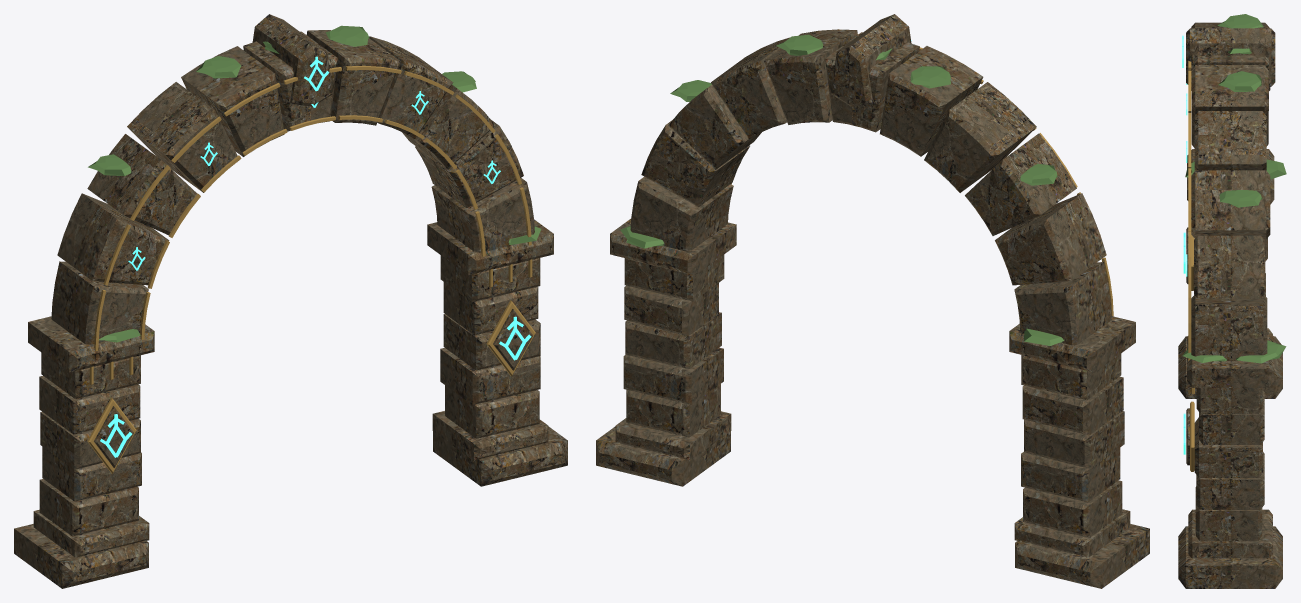
The model's file is gate.glb.
3 views of the same model, side by side, from view 1: azimuth 30°, elevation 25°; view 2: azimuth 150°, elevation 25°; view 3: azimuth 270°, elevation 25° (orthographic). The views are drawn at different scales.
Parts seen in each view (by area): view 1: weathered_arch_stone, carved_gold_inlay, moss_patina, glow; view 2: weathered_arch_stone, moss_patina; view 3: weathered_arch_stone, moss_patina, carved_gold_inlay, glow.
Boxes of the visible parts, x1,y1,x2,y2 form: weathered_arch_stone: [14, 14, 567, 588]; carved_gold_inlay: [87, 65, 535, 473]; moss_patina: [88, 25, 541, 342]; glow: [100, 56, 531, 457]; weathered_arch_stone: [596, 14, 1149, 588]; moss_patina: [620, 34, 1063, 345]; weathered_arch_stone: [1178, 22, 1282, 588]; moss_patina: [1182, 14, 1286, 363]; carved_gold_inlay: [1188, 61, 1194, 471]; glow: [1182, 35, 1187, 454].
Size of the model in its own units: 4.61 by 4.18 by 0.9219.
Materials: 4 (1 with a texture image).
